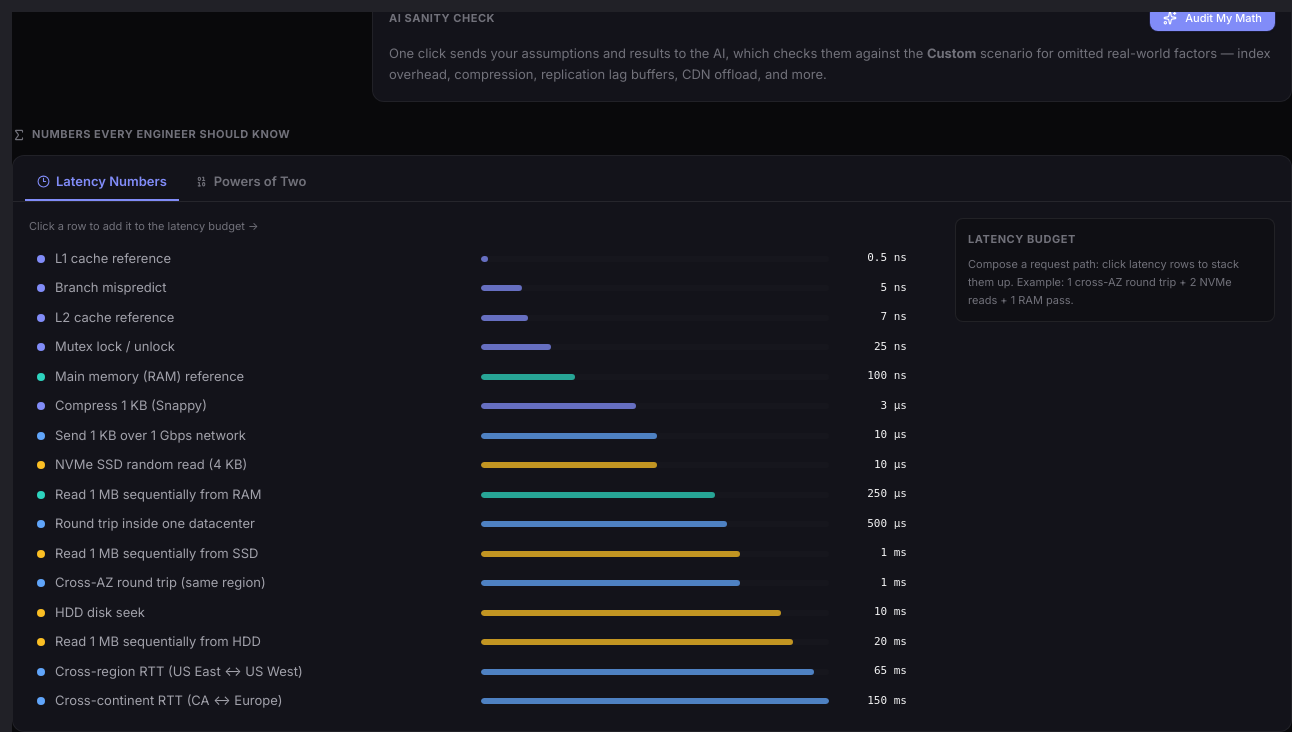
it: CalculatorPage › builds a latency budget from cheat-sheet clicks
(page scrolled)
Click the list item with id "latency-az-rtt". click: (484,583)
box: 29,569 -> 939,597
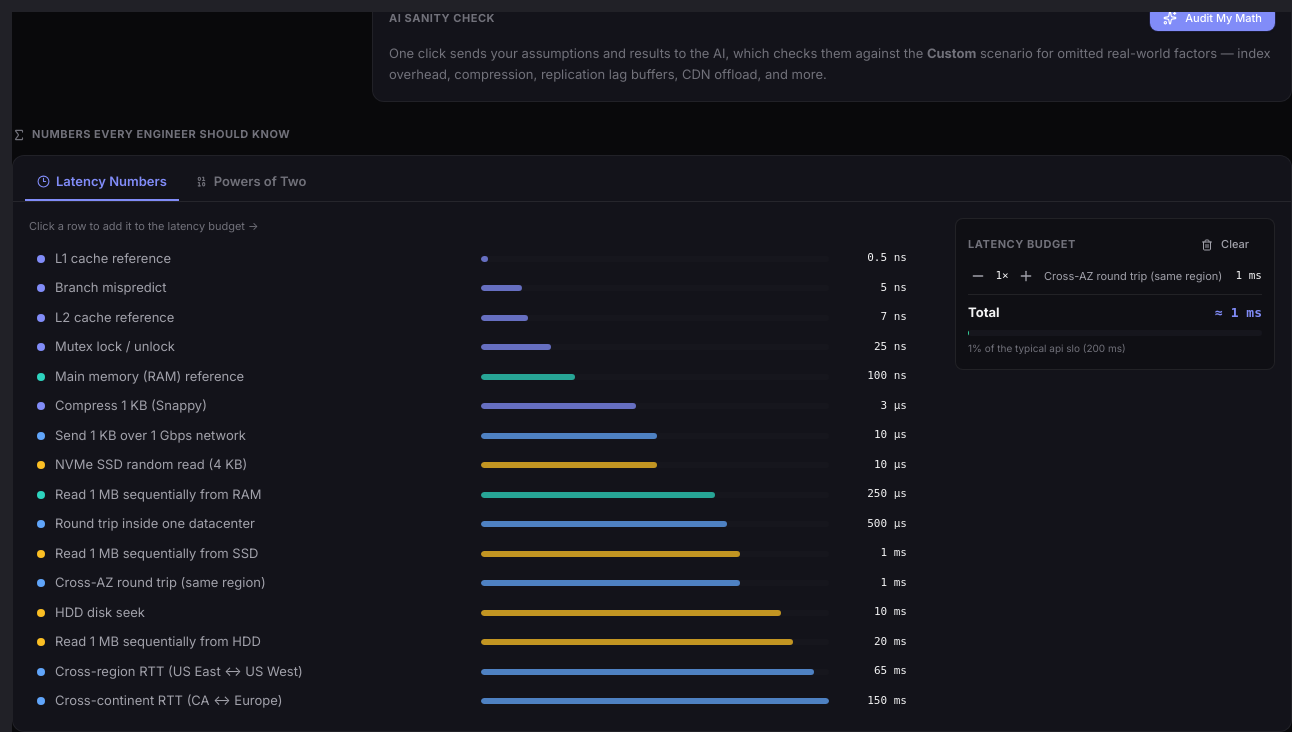
Click the list item with id "latency-az-rtt". click: (484,583)
box: 29,569 -> 939,597
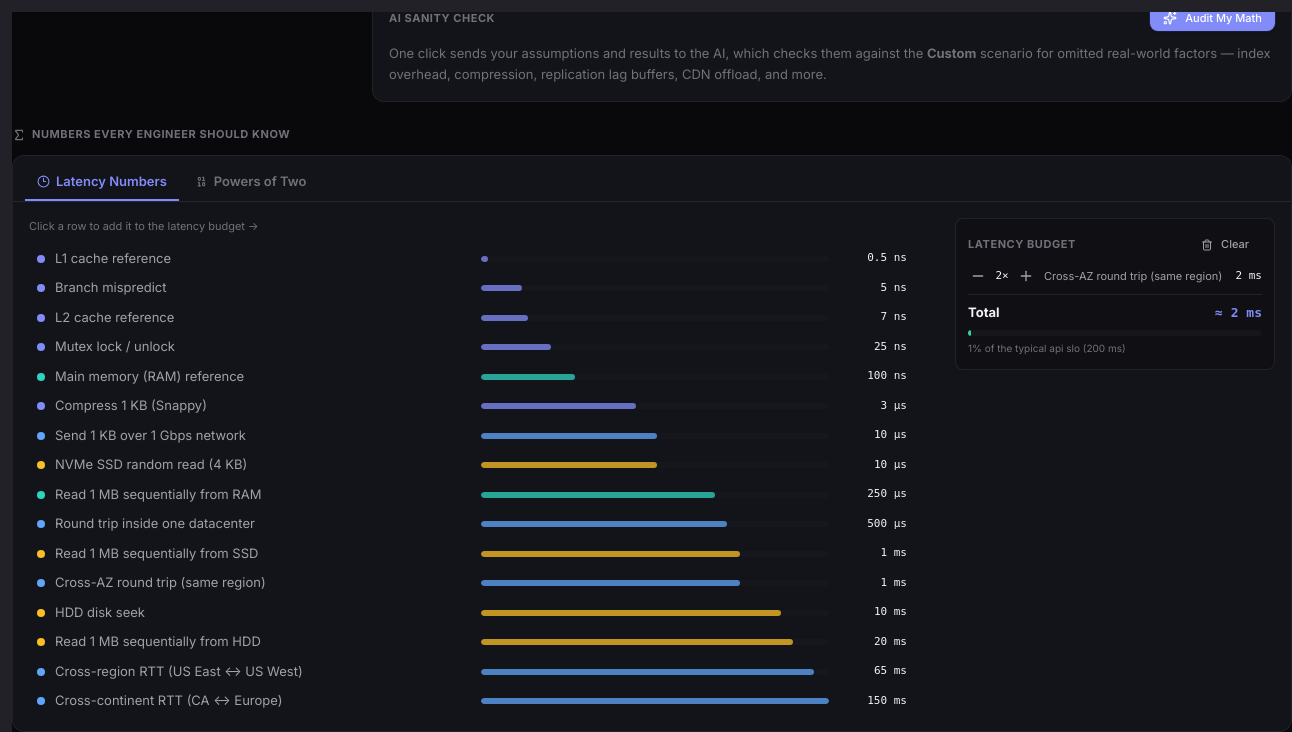
Click the list item with id "latency-nvme-read-4k". click: (484,465)
box: 29,451 -> 939,479
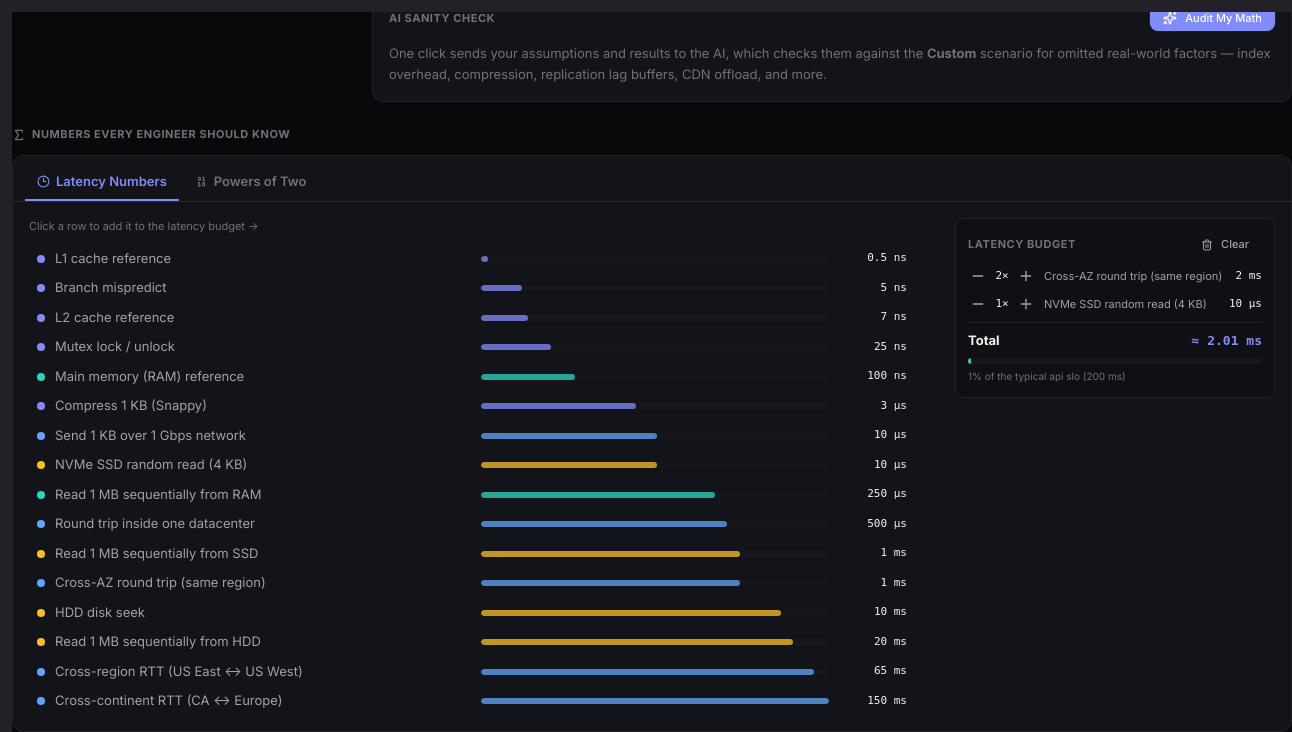
expect the text "≈ 2.01 ms" is shown: met, box 1192,331 -> 1262,350
